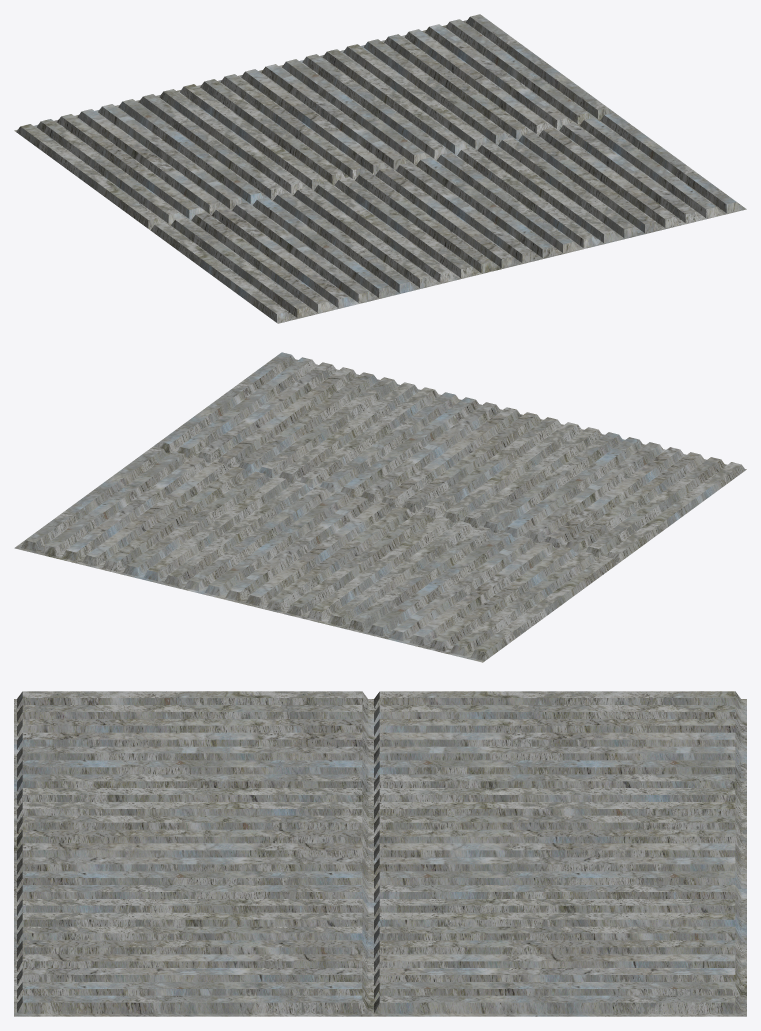
The model's file is Factory2Ceiling02.FBX.
The picture shows the model from 3 angles, top to bottom: view 1: azimuth 30°, elevation 25°; view 2: azimuth 150°, elevation 25°; view 3: azimuth 270°, elevation 25°; orthographic projection. The views are drawn at different scales.
Visible parts, largest first — view 1: Factory2Ceiling02; view 2: Factory2Ceiling02; view 3: Factory2Ceiling02.
Boxes of the visible parts, bbox=[...] form: Factory2Ceiling02: bbox=[14, 14, 746, 323]; Factory2Ceiling02: bbox=[14, 352, 746, 662]; Factory2Ceiling02: bbox=[14, 691, 746, 1016].
Size of the model in its own units: 1200 by 16.53 by 1170.
